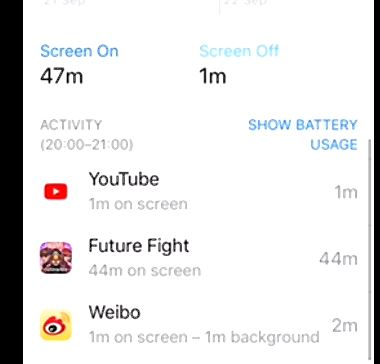activity: (33, 113, 146, 157)
app: (34, 164, 365, 223), (32, 227, 363, 286), (36, 295, 367, 354)
